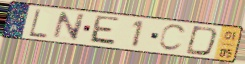1: (130, 20, 145, 49)
C: (157, 23, 189, 53)
D: (184, 25, 220, 58)
E: (87, 14, 122, 48)
L: (27, 8, 49, 40)
N: (51, 11, 88, 42)
